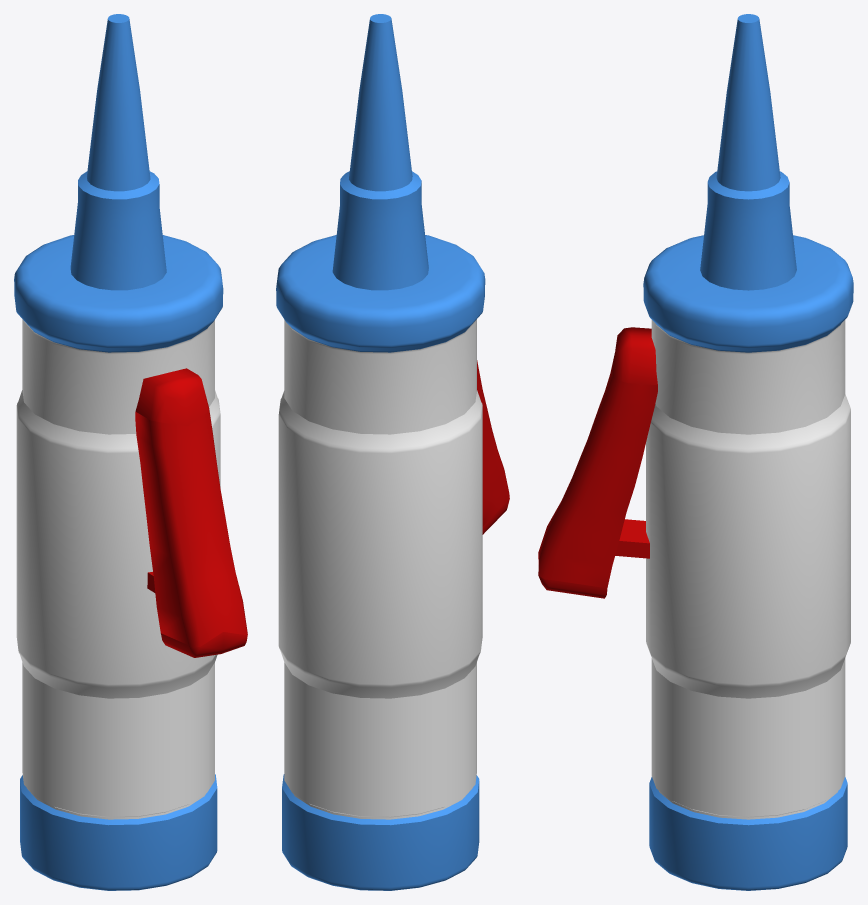
Rendered from VRInflator.FBX.
3 views of the same model, side by side, from view 1: azimuth 30°, elevation 25°; view 2: azimuth 150°, elevation 25°; view 3: azimuth 270°, elevation 25° (orthographic).
Parts seen in each view (by area): view 1: Inflator, InflatorTrigger; view 2: Inflator, InflatorTrigger; view 3: Inflator, InflatorTrigger.
Boxes of the visible parts, x1,y1,x2,y2 form: Inflator: (14,14,223,890); InflatorTrigger: (135,368,247,657); Inflator: (276,14,485,890); InflatorTrigger: (477,360,509,534); Inflator: (643,14,853,890); InflatorTrigger: (538,327,657,598).
Size of the model in its own units: 7.81 by 34.1 by 11.71.
